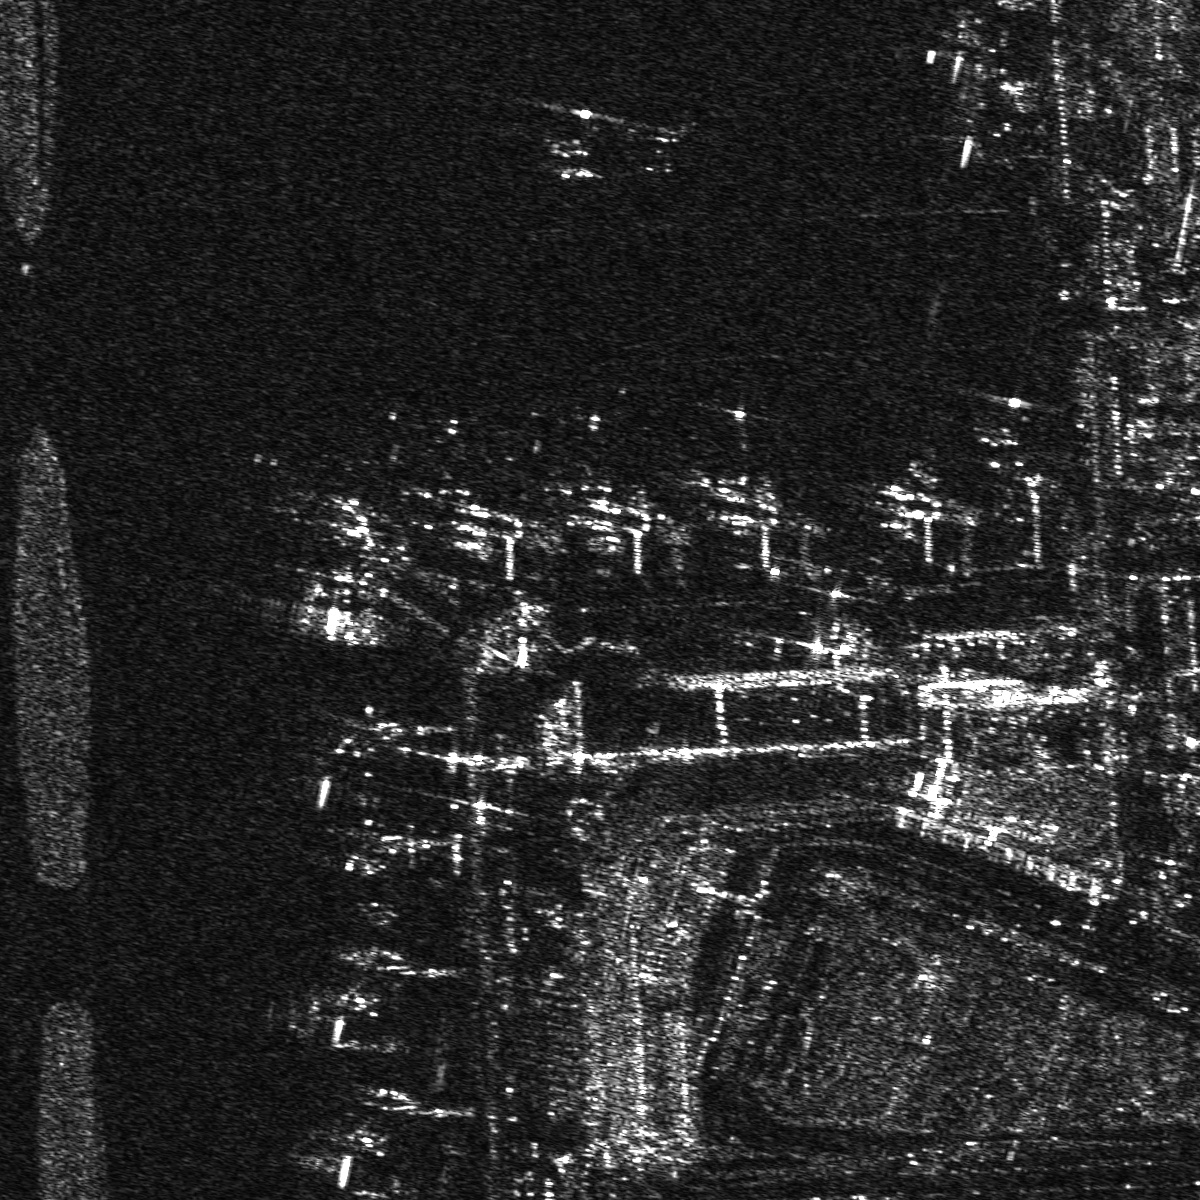A220: (965, 389, 1056, 485), (627, 115, 693, 176)
other: (516, 95, 626, 188)
